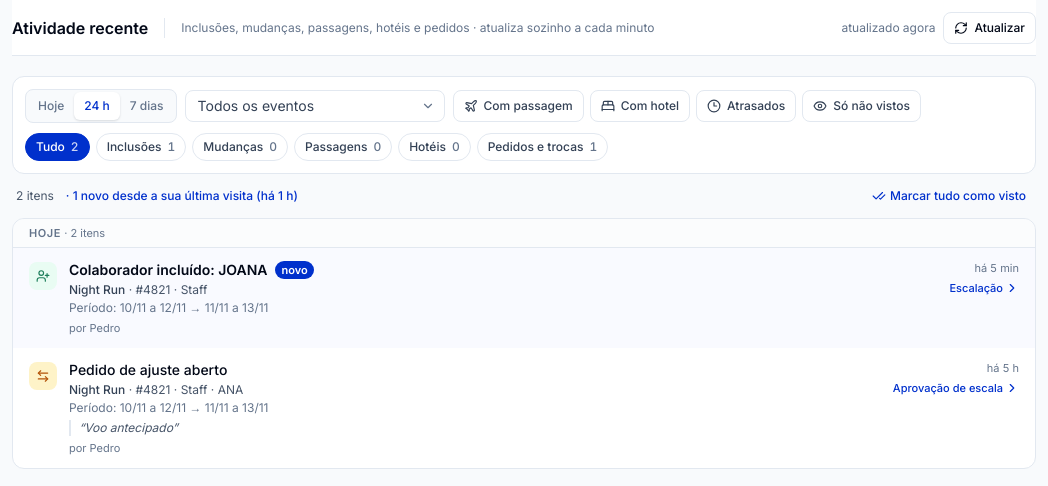
Scenario: Atividade recente › tipo vai ao servidor; a contagem de cada tipo vem do resumo
Expected: the link with test id "atividade-a1" is shown, top-left (13, 248), bottom-right (1035, 348)
Click the radio button with test id "tipo-pedido" at (542, 147), box top-left (477, 133), bottom-right (608, 161)
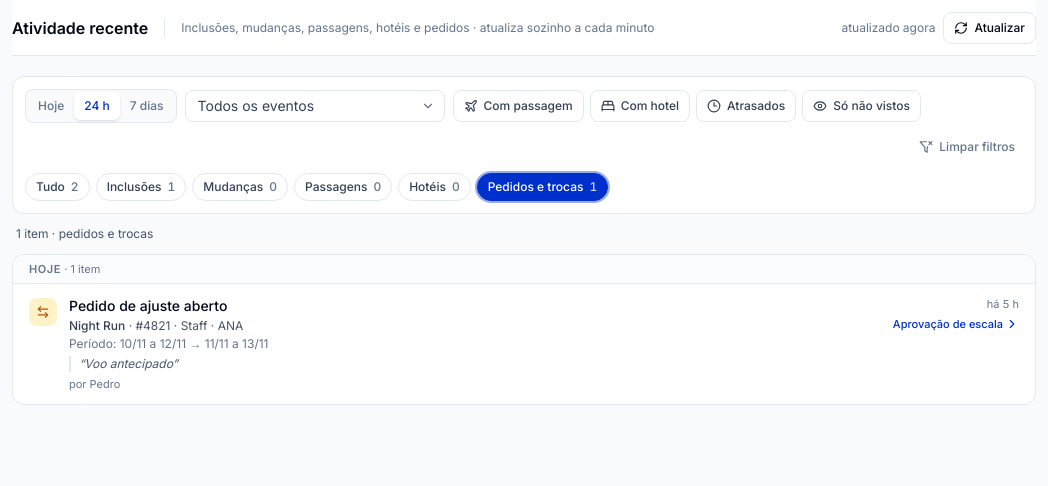
Expected: the link with test id "atividade-a2" is shown, top-left (13, 284), bottom-right (1035, 404)
Now the link with test id "atividade-a1" is gone
